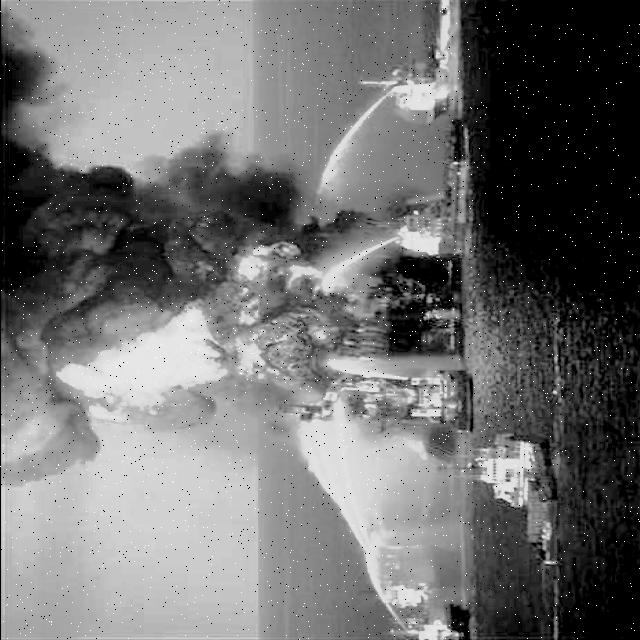api: (45, 303, 221, 433)
asap: (1, 1, 392, 487)
